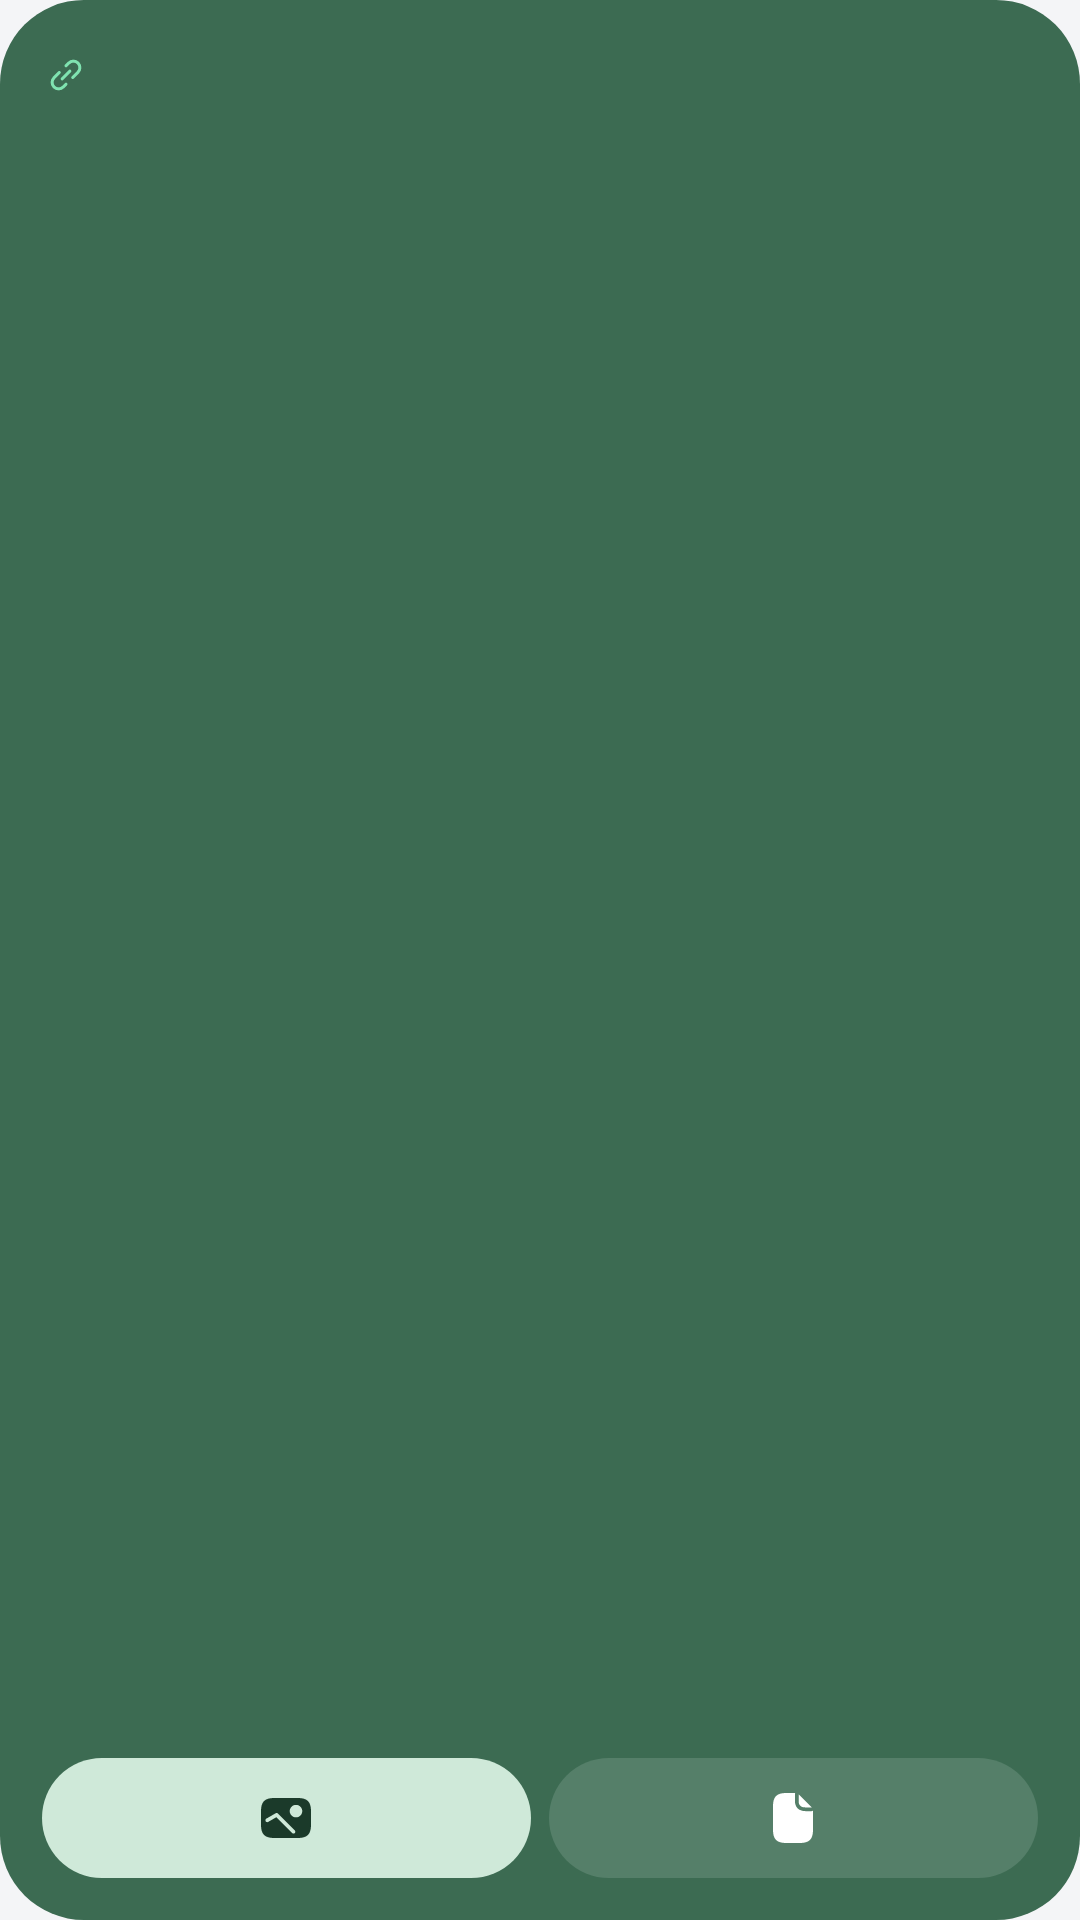

Named icons in this screenshot (1080 x 1920) and their bounding boxes, detection(x1, y1, x2, y2):
widget link: detection(50, 59, 82, 91)
